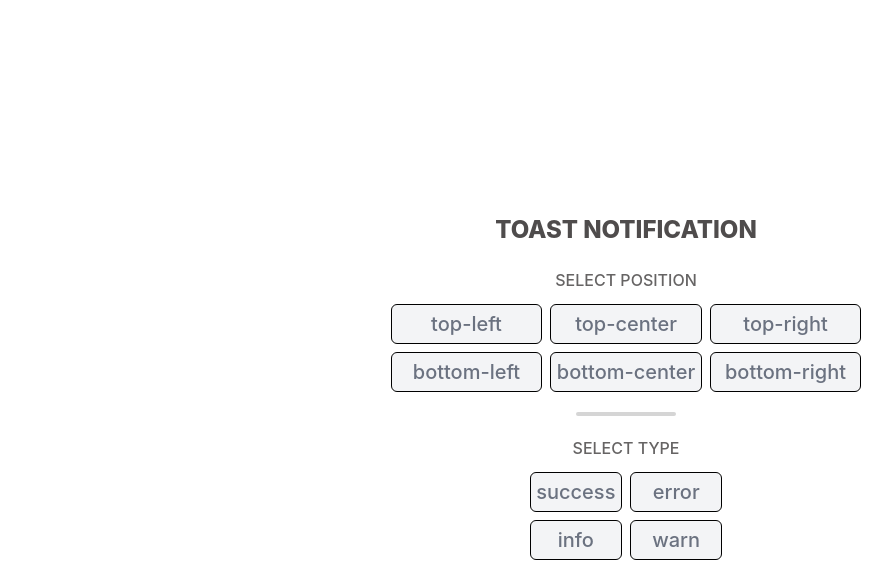
Scenario: toast file test case › success message
This screenshot has width=878, height=577.
Click the button "top-left".
click(467, 324)  # box [391,304,542,344]
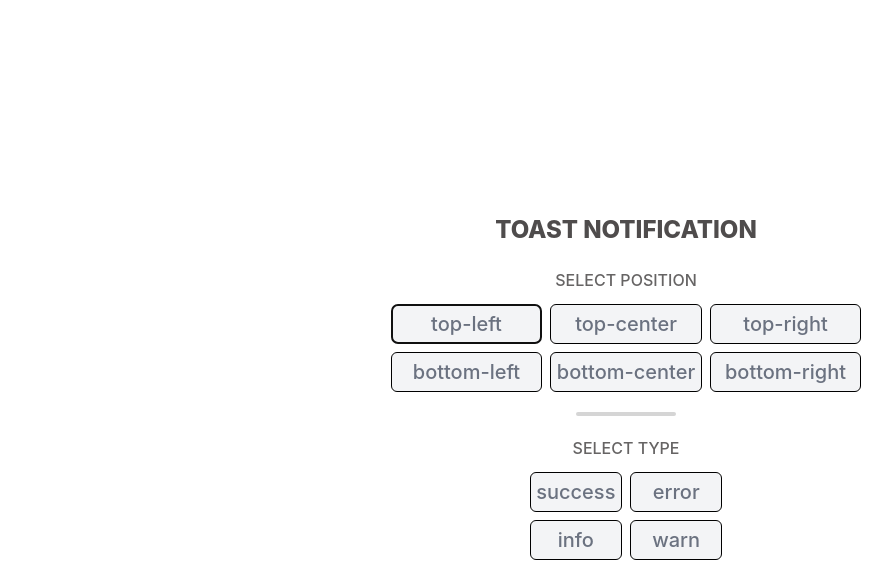
Click the button "success".
click(576, 492)  # box [530,472,622,512]
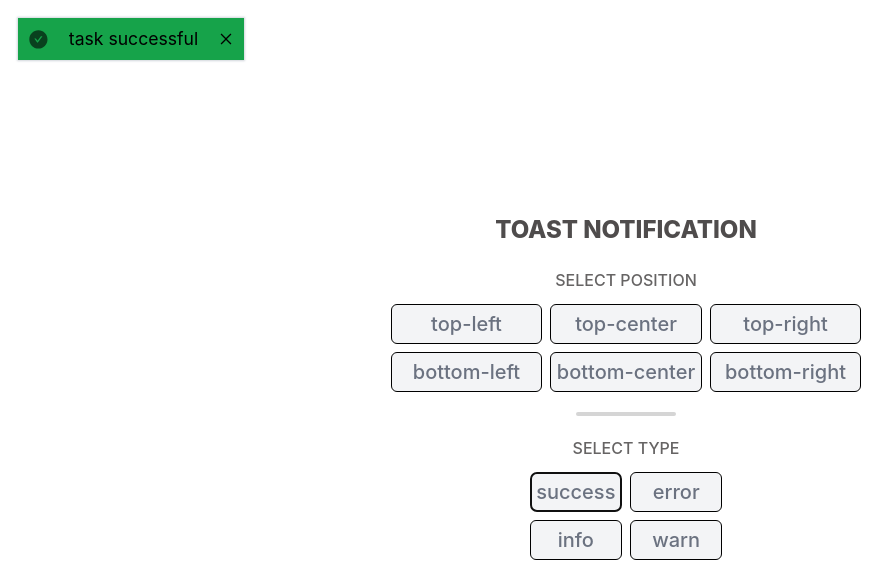
Expected: the text "task successful" is shown, [69,26,198,52]
